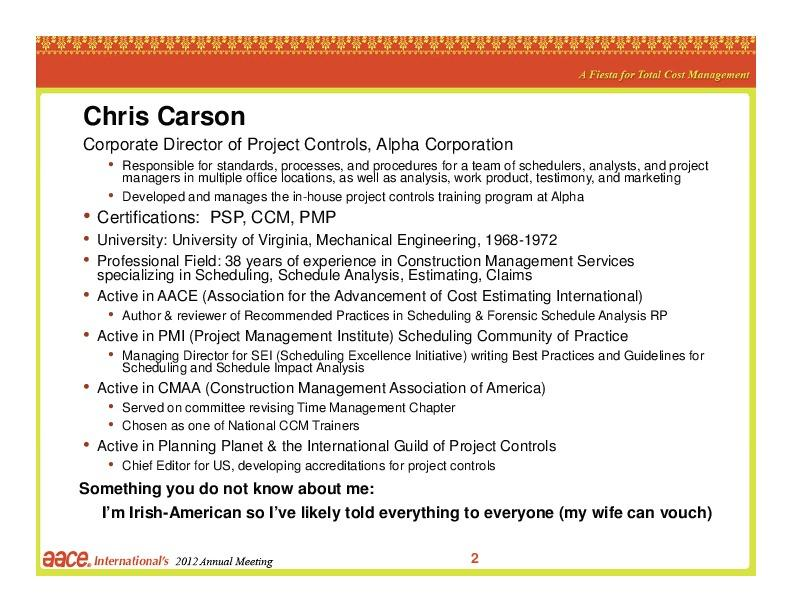paragraph: (76, 132, 730, 537)
subtitle: (42, 542, 285, 572)
title: (77, 96, 268, 135)
